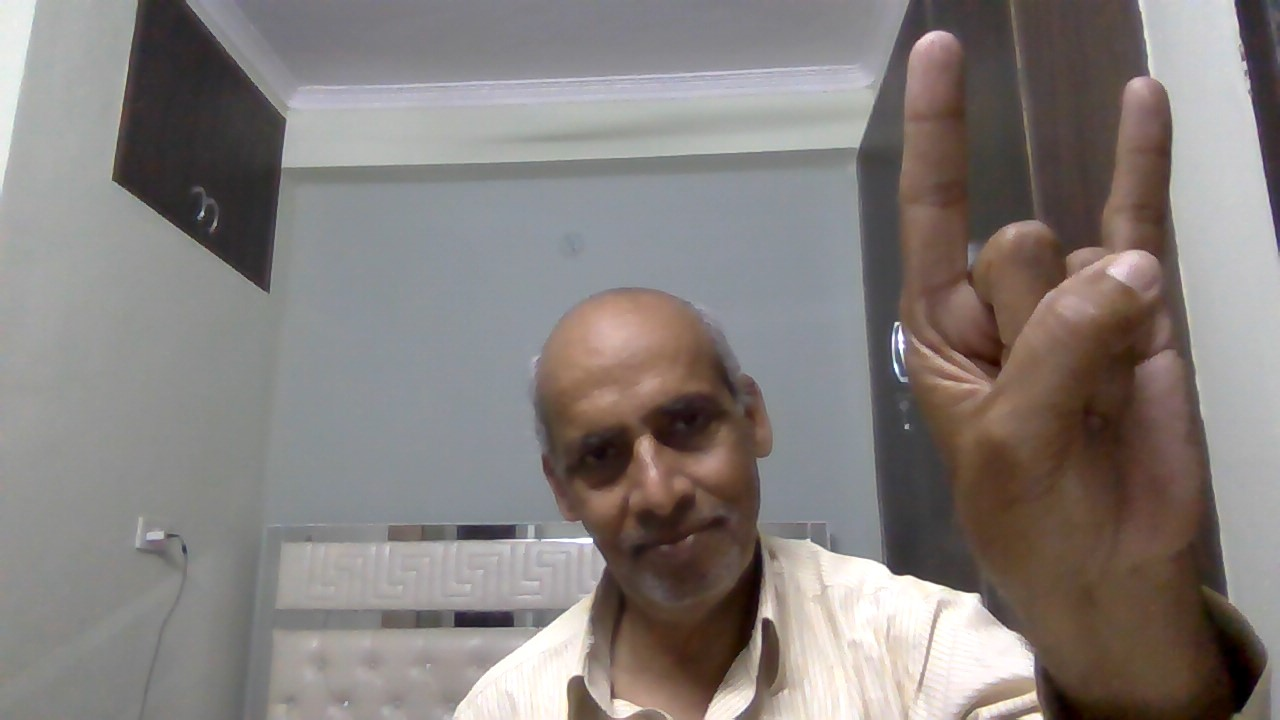Select All: (885, 16, 1217, 586)
